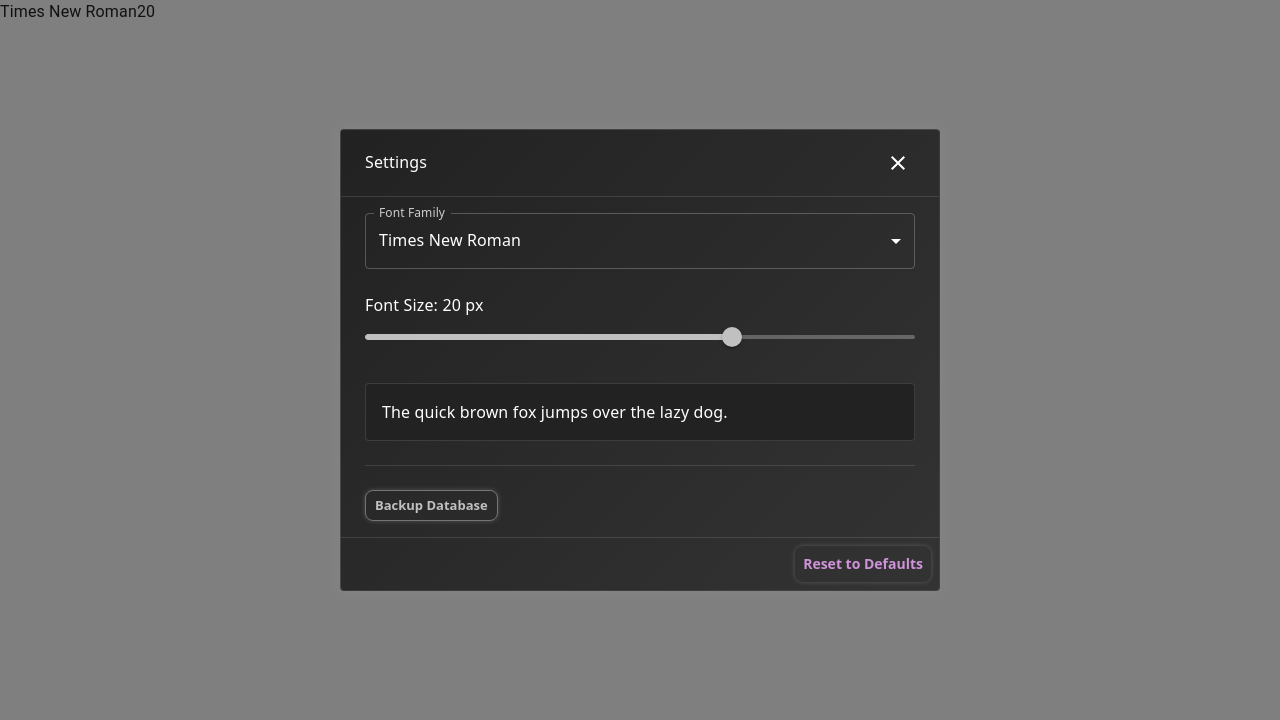
Scenario: SettingsDialog › reset button › clicking reset restores default settings
Expected: the text with test id "current-font-family" reads "Times New Roman", [0,2,137,21]
Expected: the text with test id "current-font-size" reads "20", [137,2,155,21]
Note: Click reset
Click the button "Reset to Defaults" at [863, 564], box [795,546,931,582]
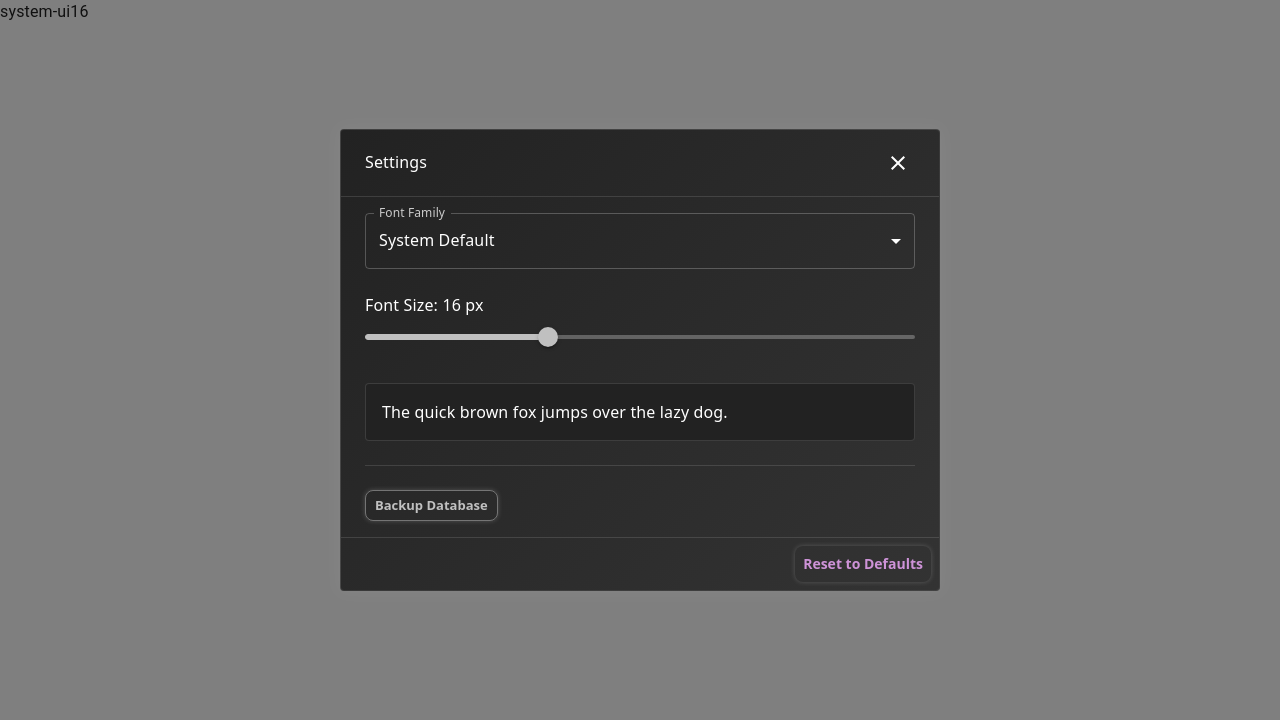
Expected: the text with test id "current-font-family" reads "system-ui", [0,2,70,21]
Expected: the text with test id "current-font-size" reads "16", [70,2,89,21]
